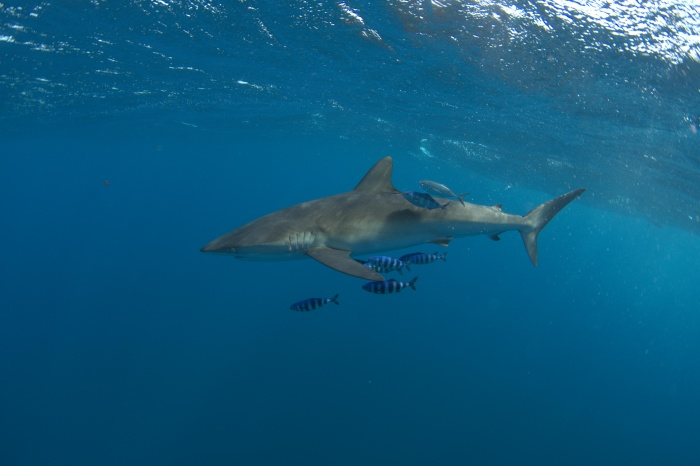Sedoso: (189, 142, 590, 294)
